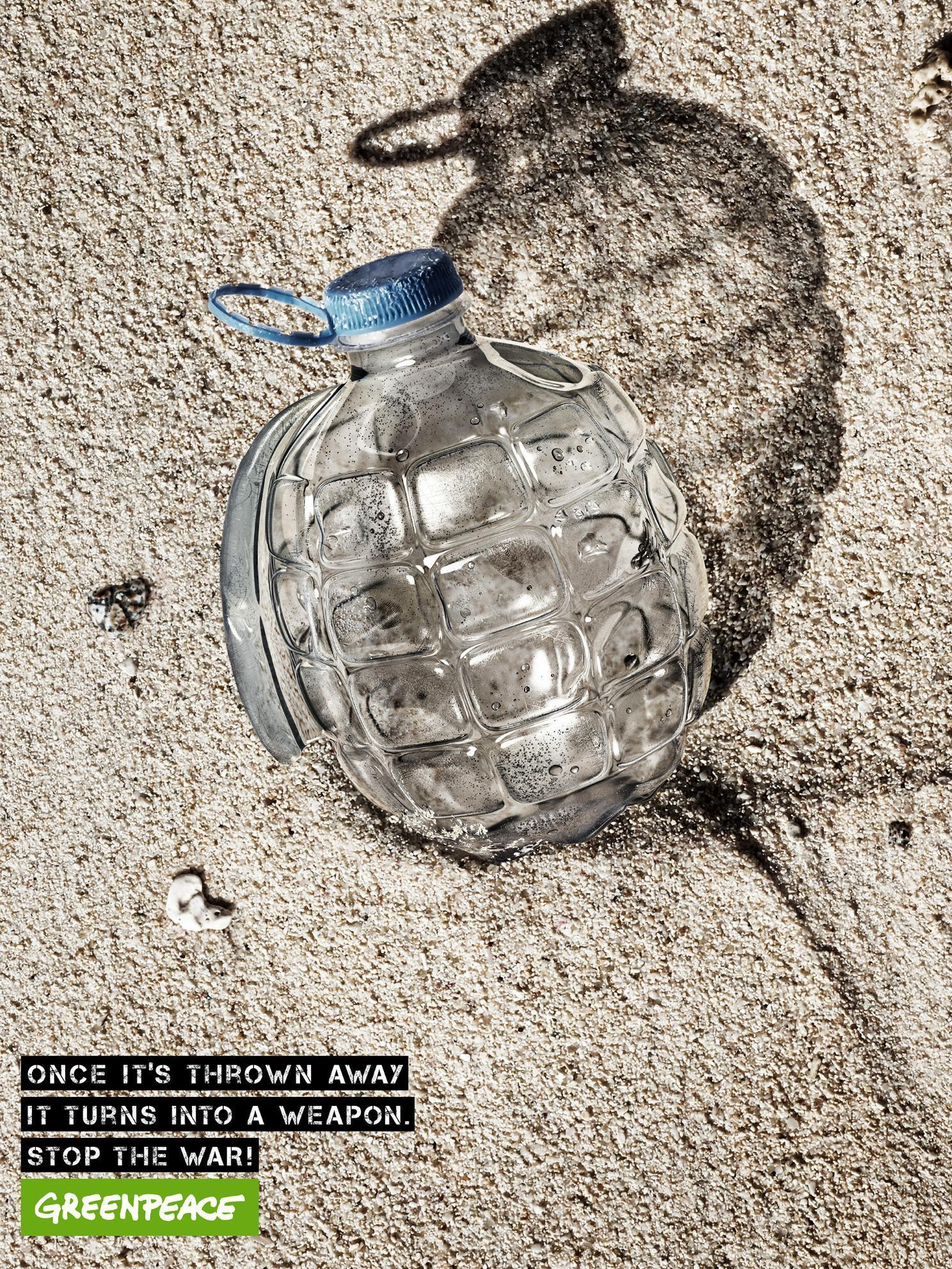Grenade: (211, 249, 710, 850)
